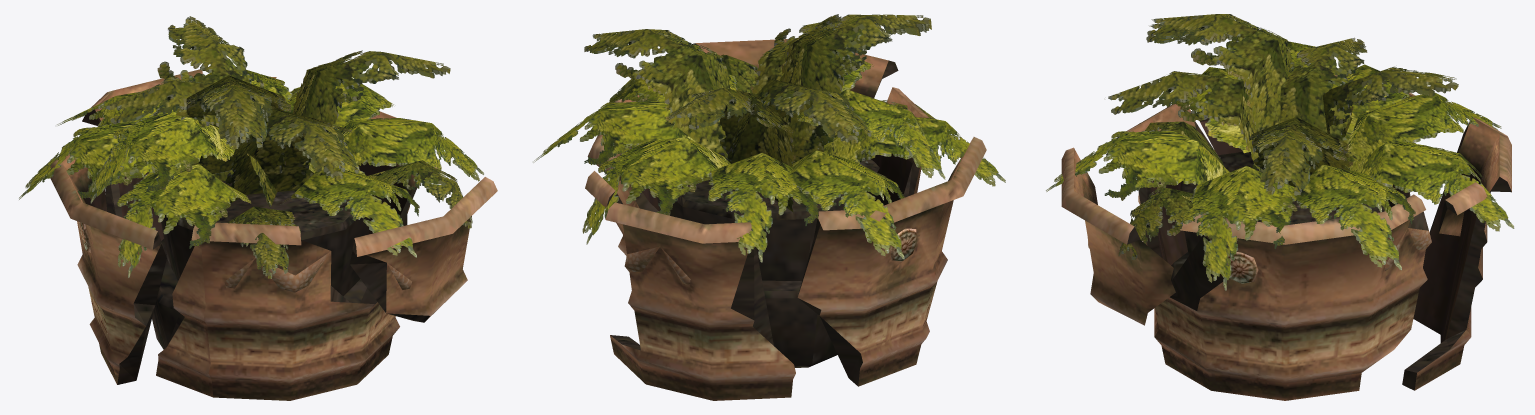
File: pot_plant_small01_broken.dae
3 views of the same model, side by side, from view 1: azimuth 30°, elevation 25°; view 2: azimuth 150°, elevation 25°; view 3: azimuth 270°, elevation 25° (orthographic).
Parts seen in each view (by area): view 1: Object08, Object07, Object03, Object02, Cylinder01, Object06, Object05; view 2: Object08, Object05, Object03, Object06, Object02, Object07, Cylinder01, Object04; view 3: Object08, Cylinder01, Object05, Object02, Object07, Object04, Object03.
Boxes of the visible parts, bbox=[...] form: Object08: bbox=[19, 16, 483, 296]; Object07: bbox=[156, 222, 374, 400]; Object03: bbox=[50, 152, 166, 384]; Object02: bbox=[350, 177, 497, 322]; Cylinder01: bbox=[290, 91, 437, 383]; Object06: bbox=[152, 239, 366, 349]; Object05: bbox=[82, 69, 202, 240]; Object08: bbox=[533, 14, 1005, 281]; Object05: bbox=[605, 202, 795, 400]; Object03: bbox=[797, 137, 986, 386]; Object06: bbox=[762, 280, 837, 367]; Object02: bbox=[692, 39, 898, 98]; Object07: bbox=[871, 87, 928, 205]; Cylinder01: bbox=[587, 95, 659, 309]; Object04: bbox=[585, 171, 624, 236]; Object08: bbox=[1046, 14, 1514, 290]; Cylinder01: bbox=[1154, 194, 1431, 400]; Object05: bbox=[1402, 117, 1511, 390]; Object02: bbox=[1061, 147, 1175, 325]; Object07: bbox=[1117, 102, 1213, 336]; Object04: bbox=[1439, 182, 1487, 236]; Object03: bbox=[1199, 75, 1414, 207].
Size of the model in its own units: 0.7132 by 0.7529 by 0.5225.
